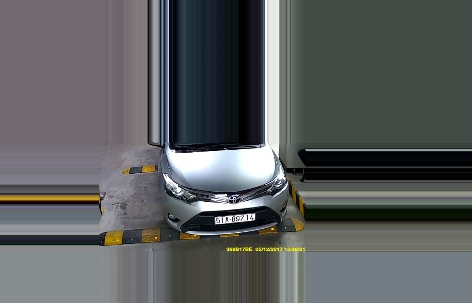plate: (215, 212, 256, 224)
